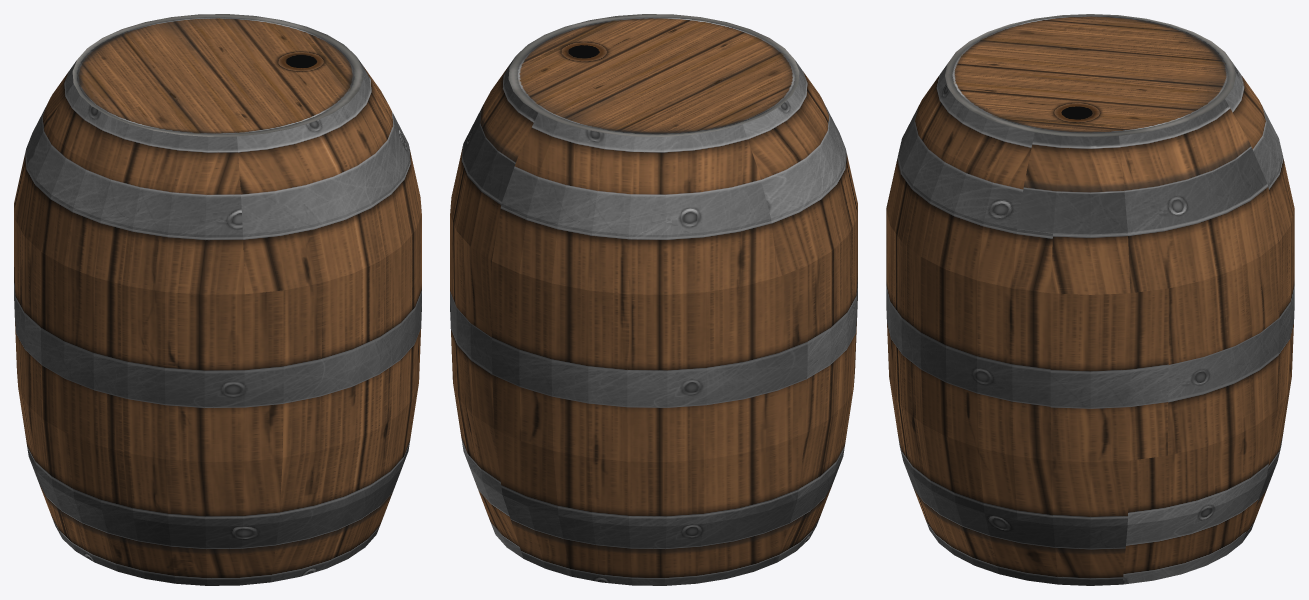
Rendered from barl.obj.
3 views of the same model, side by side, from view 1: azimuth 30°, elevation 25°; view 2: azimuth 150°, elevation 25°; view 3: azimuth 270°, elevation 25° (orthographic).
Parts seen in each view (by area): view 1: Cylinder_Cylinder.001; view 2: Cylinder_Cylinder.001; view 3: Cylinder_Cylinder.001.
Boxes of the visible parts, box(x1,y1,x2,y2) form: Cylinder_Cylinder.001: box(14, 14, 421, 585); Cylinder_Cylinder.001: box(450, 14, 857, 585); Cylinder_Cylinder.001: box(886, 14, 1294, 585).
Size of the model in its own units: 2.49 by 2.97 by 2.49.
